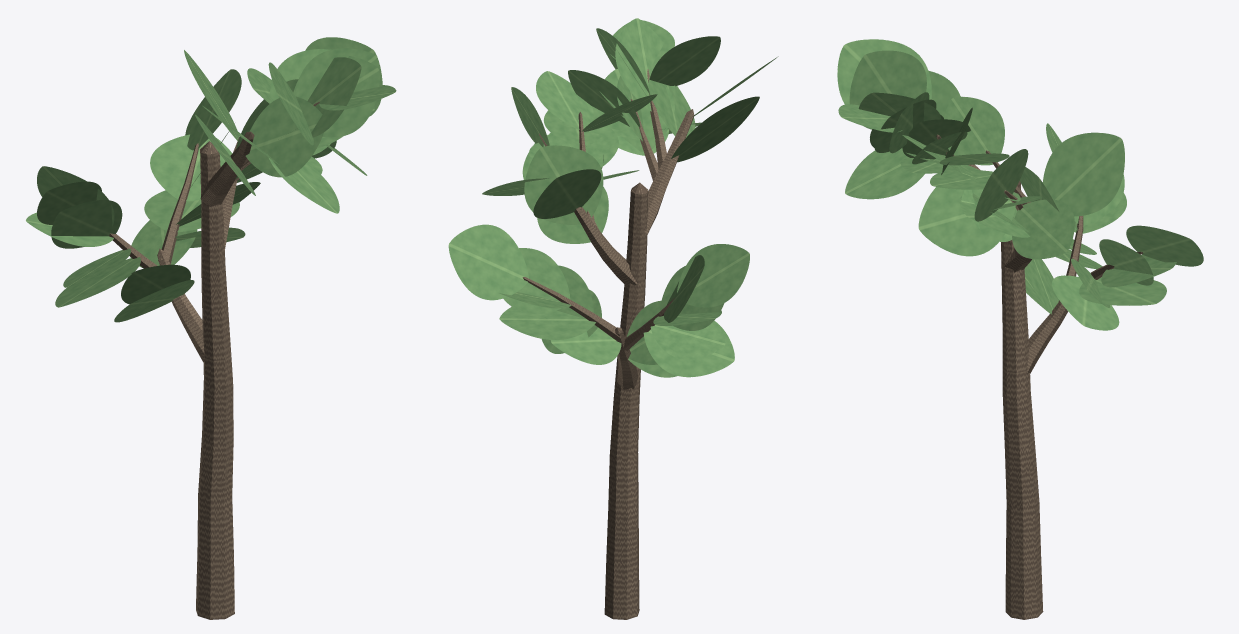
The model's file is 어린나무_01.fbx.
3 renders of one model, left to right at view 1: azimuth 30°, elevation 25°; view 2: azimuth 150°, elevation 25°; view 3: azimuth 270°, elevation 25°, orthographic. The views are drawn at different scales.
Parts seen in each view (by area): view 1: 어린나무_01; view 2: 어린나무_01; view 3: 어린나무_01.
Boxes of the visible parts, x1,y1,x2,y2 form: 어린나무_01: (26, 37, 396, 619); 어린나무_01: (448, 18, 778, 619); 어린나무_01: (837, 39, 1203, 619).
Bounding box in the file's own units: 978 × 1710 × 1122.
Materials: 2 (2 with a texture image).
